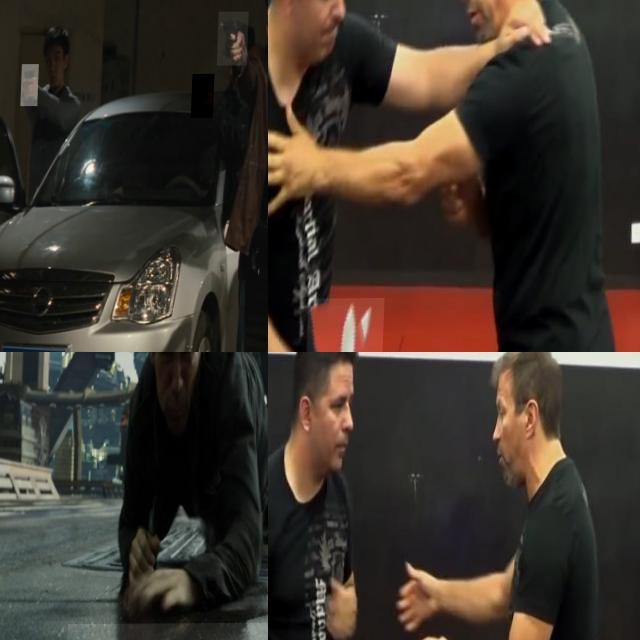-: (307, 298, 388, 352)
gun-knife-thesis - v11 Yolov5 augmented: (219, 12, 250, 66), (192, 74, 216, 119), (22, 65, 40, 106)
